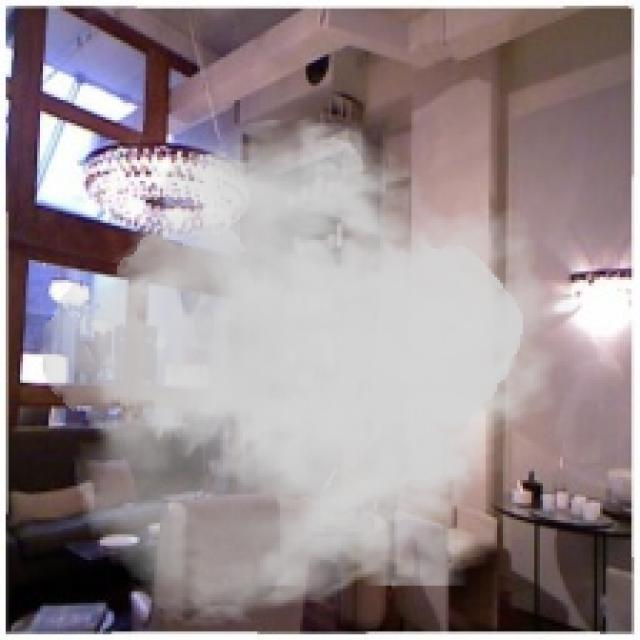Smoke: (40, 111, 577, 632)
